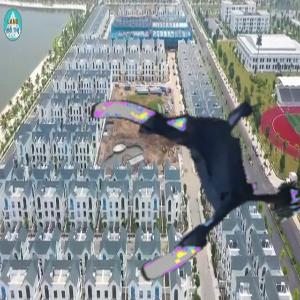drone: (89, 62, 292, 265)
